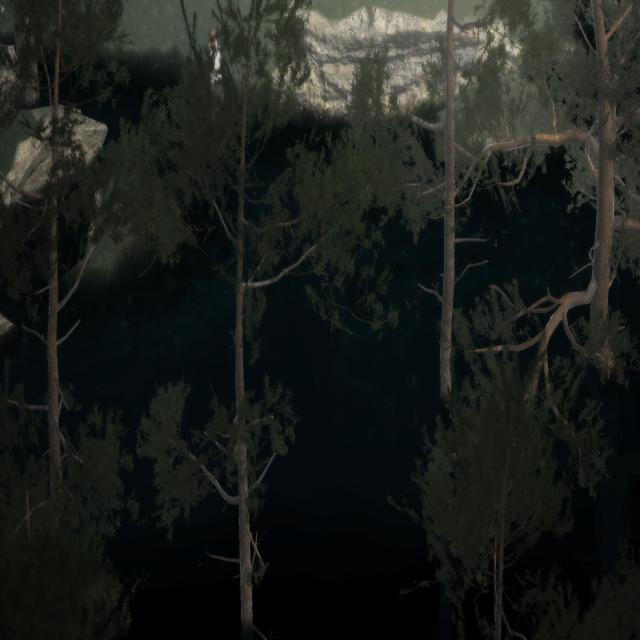Human: (191, 0, 235, 172)
